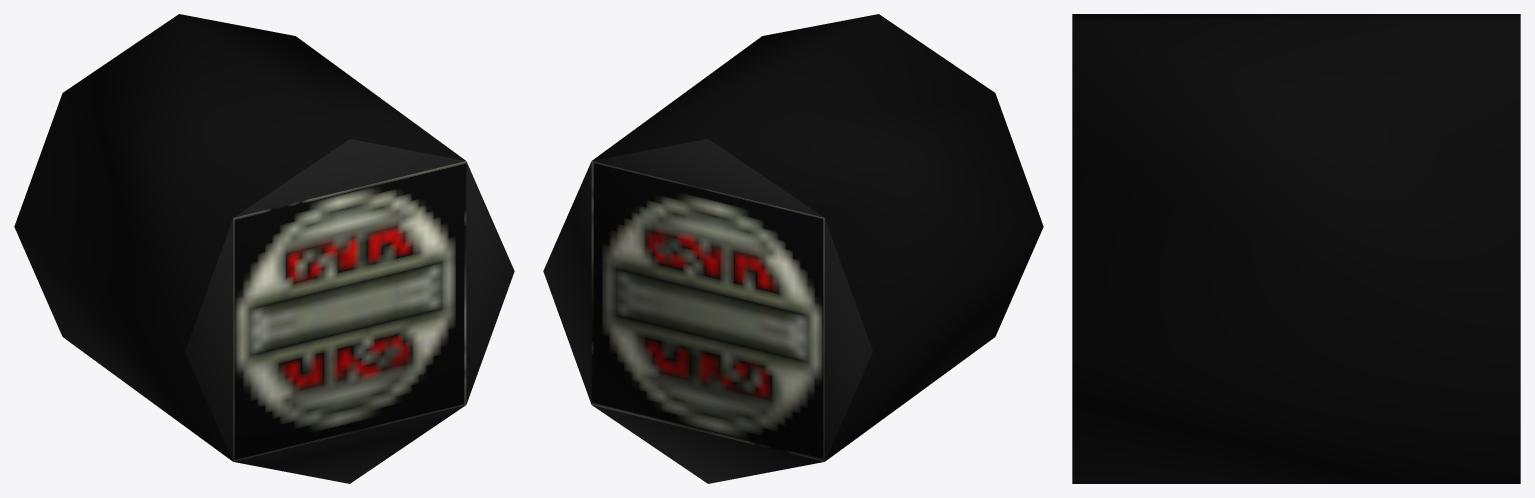
Rendered from WheelRearR.obj.
3 views of the same model, side by side, from view 1: azimuth 30°, elevation 25°; view 2: azimuth 150°, elevation 25°; view 3: azimuth 270°, elevation 25° (orthographic). The views are drawn at different scales.
Visible parts, largest first — view 1: WheelRearR; view 2: WheelRearR; view 3: WheelRearR.
Boxes of the visible parts, x1,y1,x2,y2 form: WheelRearR: (14, 14, 514, 483); WheelRearR: (543, 14, 1043, 483); WheelRearR: (1072, 14, 1520, 483).
Bounding box in the file's own units: 1.13 × 1.13 × 1.01.
3 materials, 1 textured.
